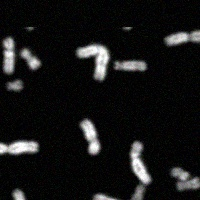chromosome: (76, 45, 109, 81), (130, 142, 149, 184), (164, 27, 200, 45), (81, 118, 98, 155), (0, 142, 36, 156), (175, 177, 200, 193), (3, 38, 14, 74), (20, 48, 38, 69), (114, 60, 145, 71), (93, 193, 140, 200), (170, 167, 190, 181), (130, 183, 143, 200), (6, 81, 24, 91), (12, 187, 25, 200)
